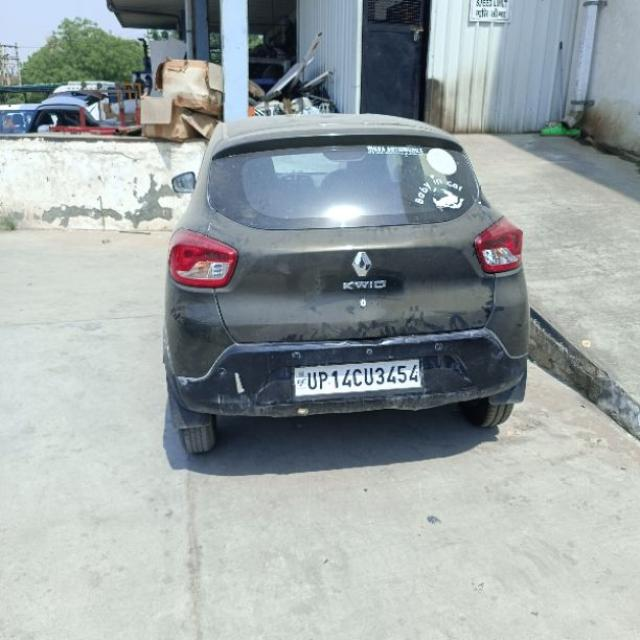license_plate: (288, 356, 426, 399)
